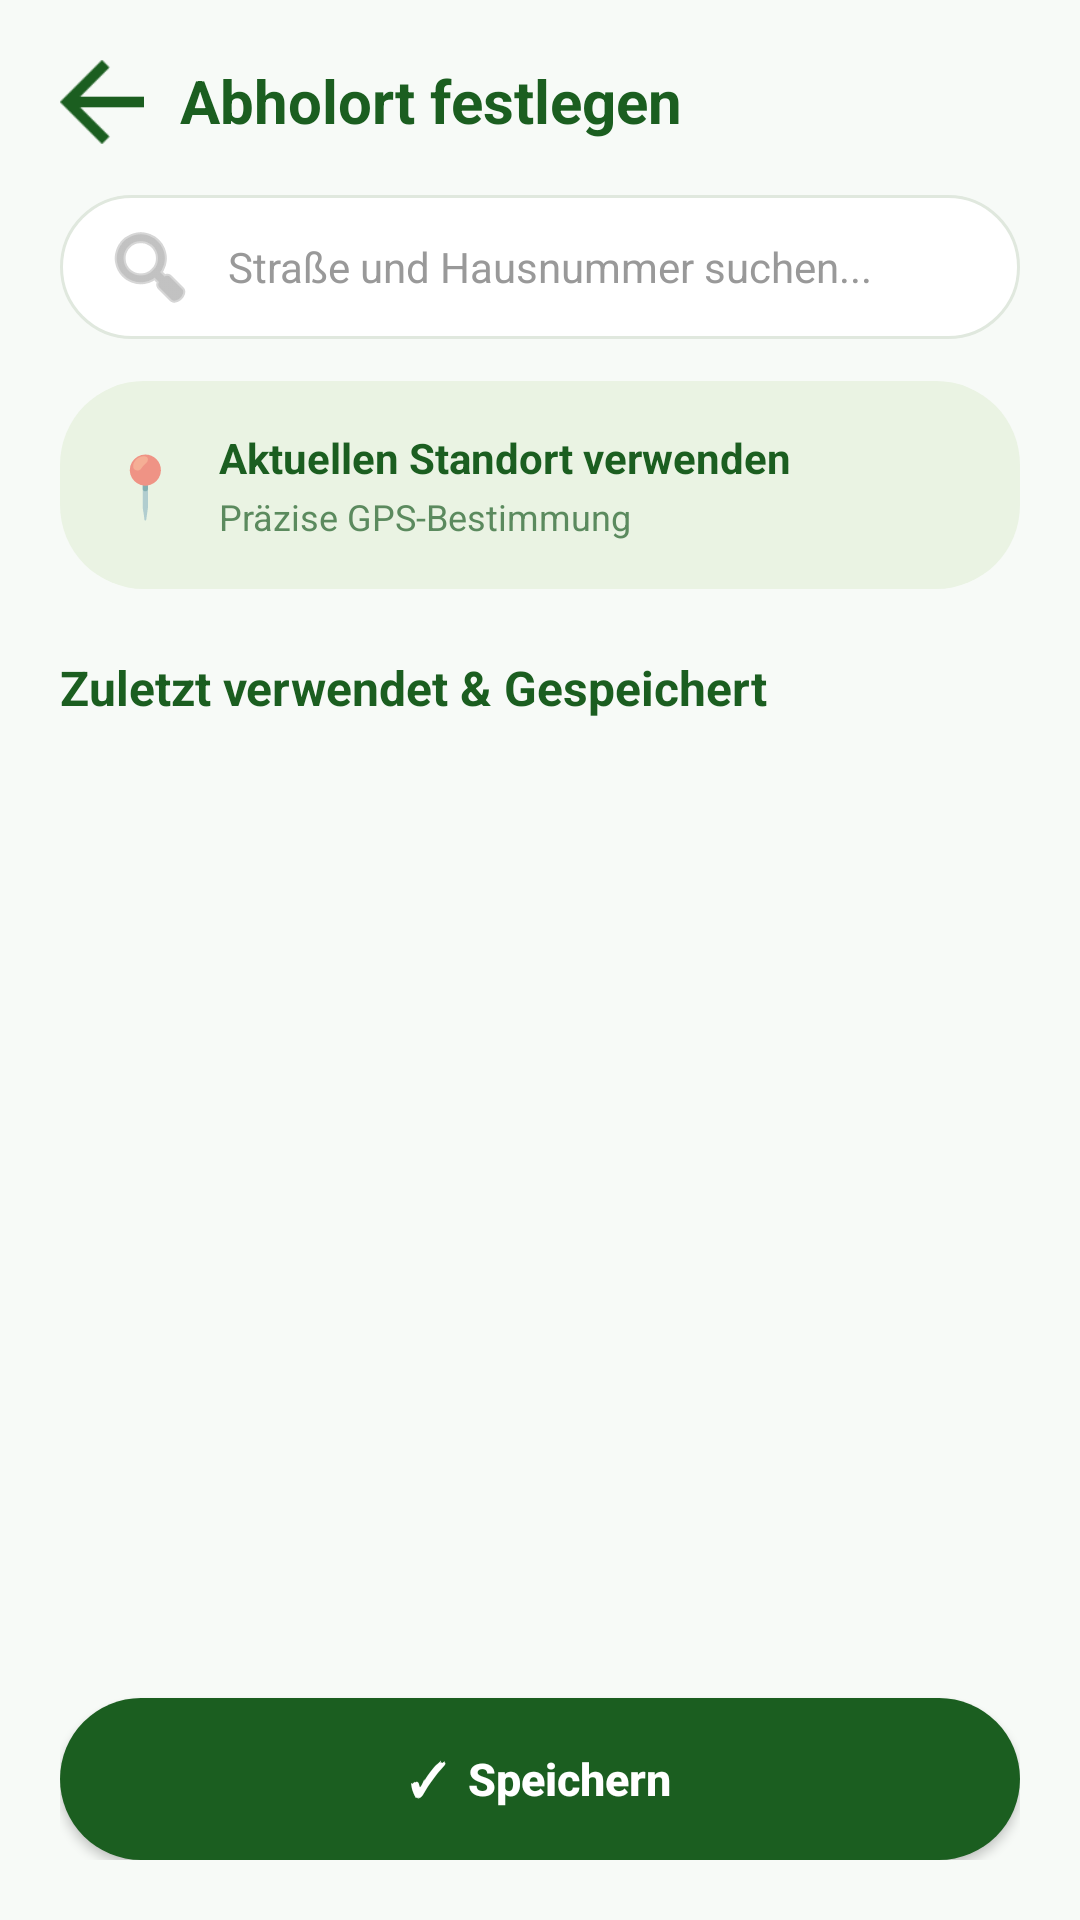

Where to tap for icons on this 1080px x 1920px app screen, as (x=x, y=y):
Zurück: (x=102, y=102)
